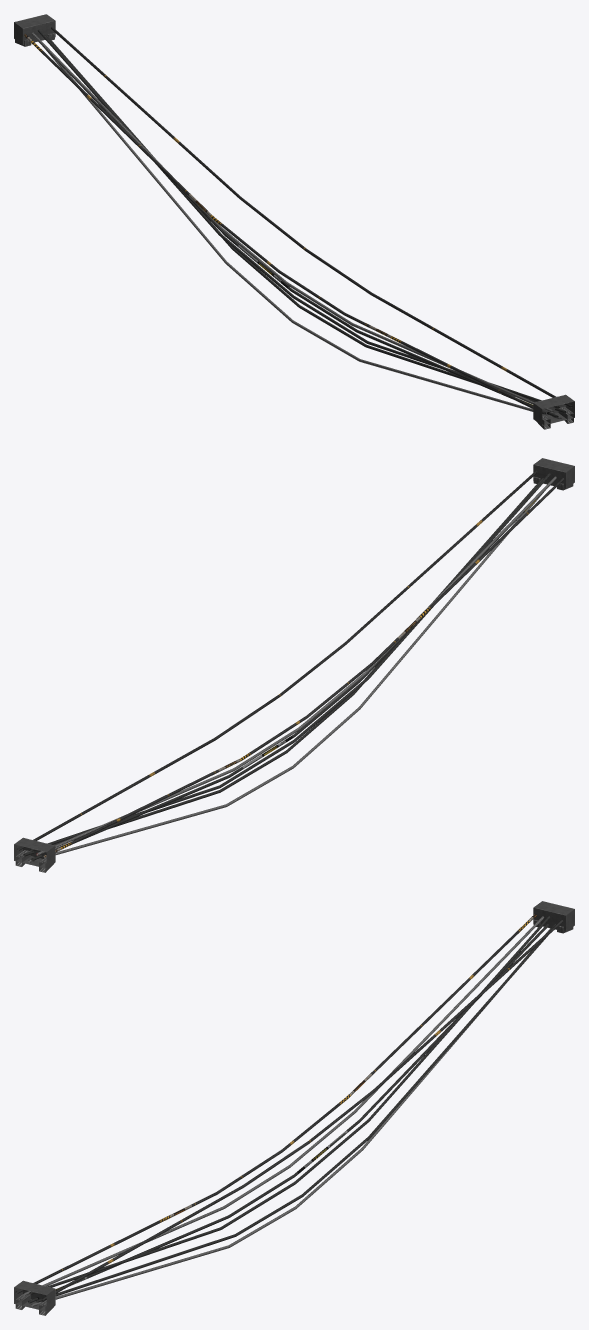
The model's file is CP_Wires_18m_02.fbx.
The picture shows the model from 3 angles, top to bottom: view 1: azimuth 30°, elevation 25°; view 2: azimuth 150°, elevation 25°; view 3: azimuth 330°, elevation 25°; orthographic projection.
Parts seen in each view (by area): view 1: CP_Wires_18m_02_LOD0; view 2: CP_Wires_18m_02_LOD0; view 3: CP_Wires_18m_02_LOD0.
Boxes of the visible parts, x1=… form: CP_Wires_18m_02_LOD0: x1=14, y1=14, x2=574, y2=429; CP_Wires_18m_02_LOD0: x1=14, y1=458, x2=574, y2=872; CP_Wires_18m_02_LOD0: x1=14, y1=901, x2=574, y2=1315.
Size of what is drawn, in the model's own units: 65.14 by 211 by 1802.
